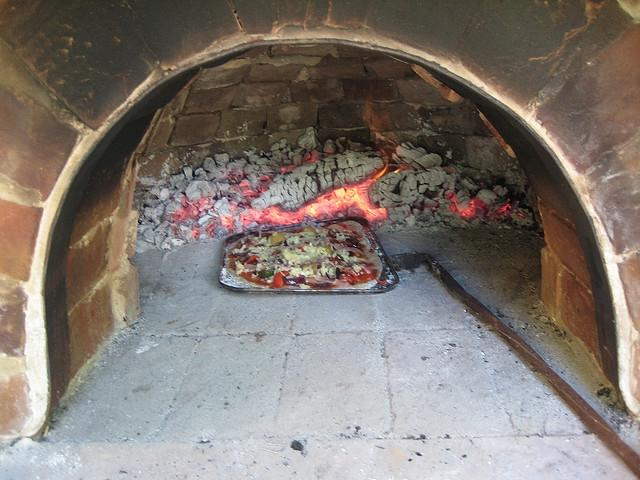bell pepper: (274, 270, 290, 286), (346, 270, 362, 282), (245, 254, 259, 264), (359, 274, 376, 280), (247, 241, 259, 245), (298, 246, 304, 252)
